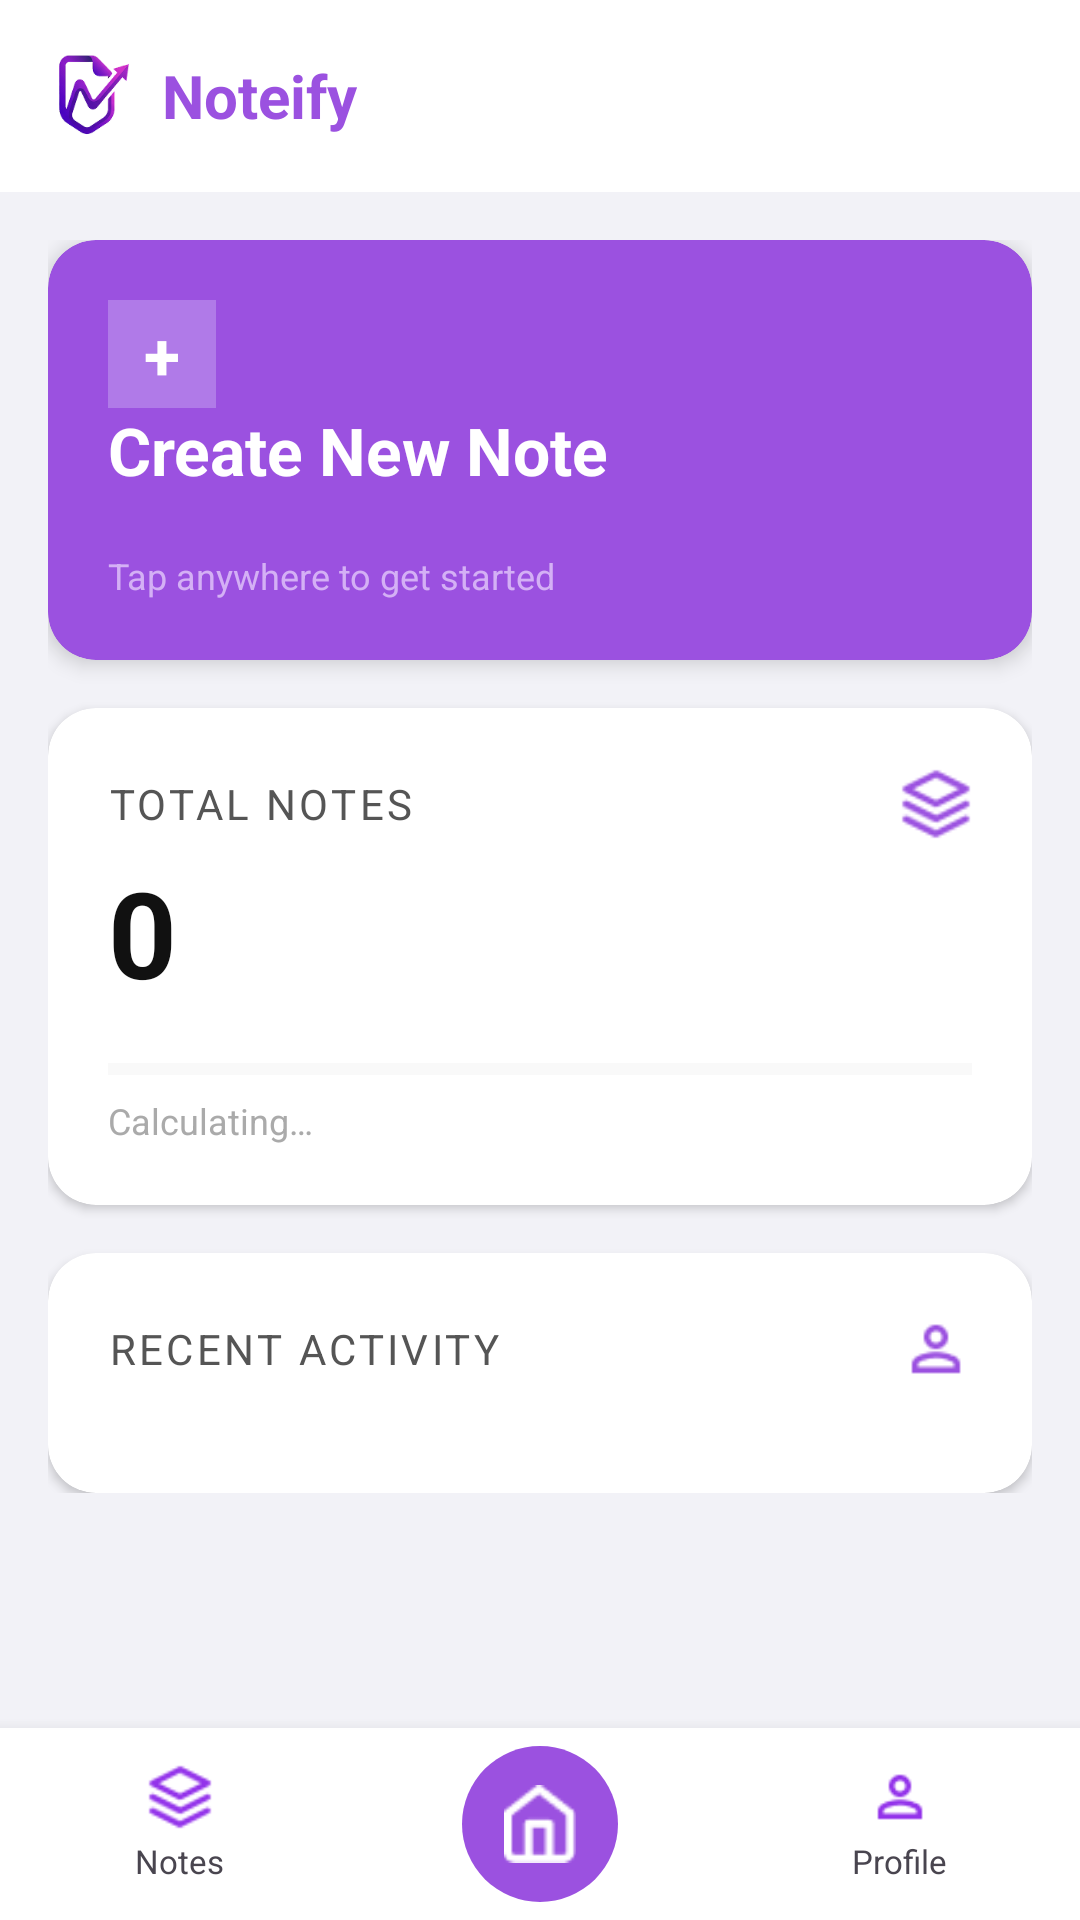

Named icons in this screenshot (1080*1920) and their bounding boxes, region(x1, y1, x2, y2):
Dashboard: region(504, 1785, 576, 1863)
